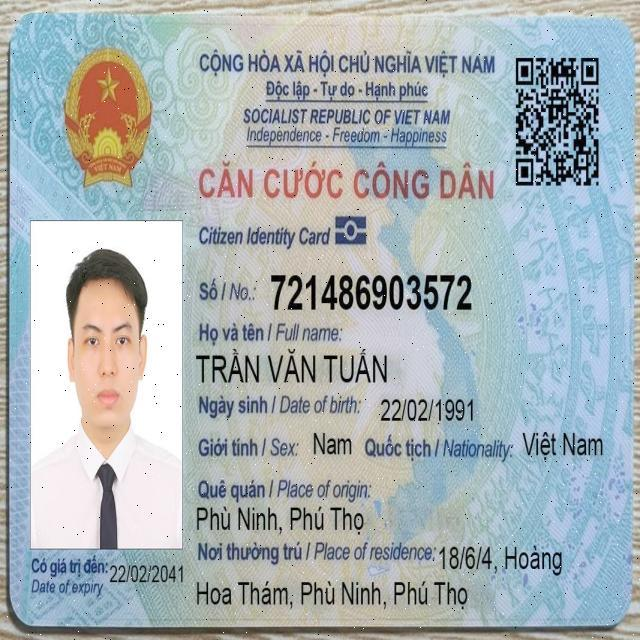current_place: (194, 577, 470, 614), (438, 541, 564, 580)
dob: (378, 395, 476, 427)
expire_date: (107, 560, 186, 588)
gender: (311, 428, 353, 461)
id: (268, 270, 475, 317)
name: (193, 344, 390, 388)
nationality: (521, 428, 606, 464)
origin_place: (194, 502, 366, 538)
qr: (510, 49, 603, 198)
